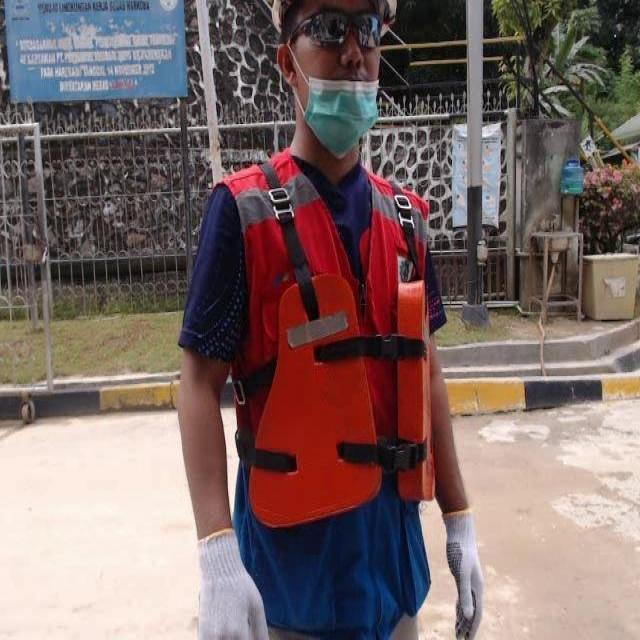Vest: (243, 266, 443, 530), (434, 504, 491, 640)
